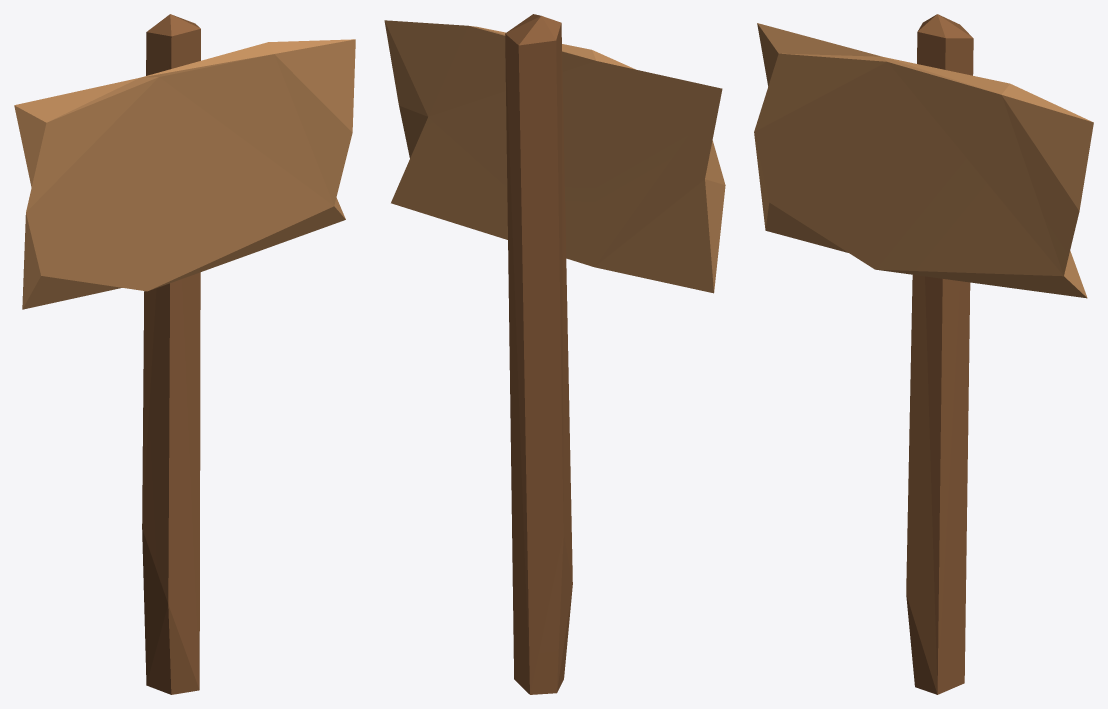
The model's file is Pointer_01.fbx.
3 renders of one model, left to right at view 1: azimuth 30°, elevation 25°; view 2: azimuth 150°, elevation 25°; view 3: azimuth 330°, elevation 25°, orthographic.
Parts seen in each view (by area): view 1: Pointer_01; view 2: Pointer_01; view 3: Pointer_01.
Boxes of the visible parts, x1,y1,x2,y2 form: Pointer_01: (14,14,355,694); Pointer_01: (384,14,725,694); Pointer_01: (754,14,1093,694).
Bounding box in the file's own units: 90.24 × 170 × 16.26.
